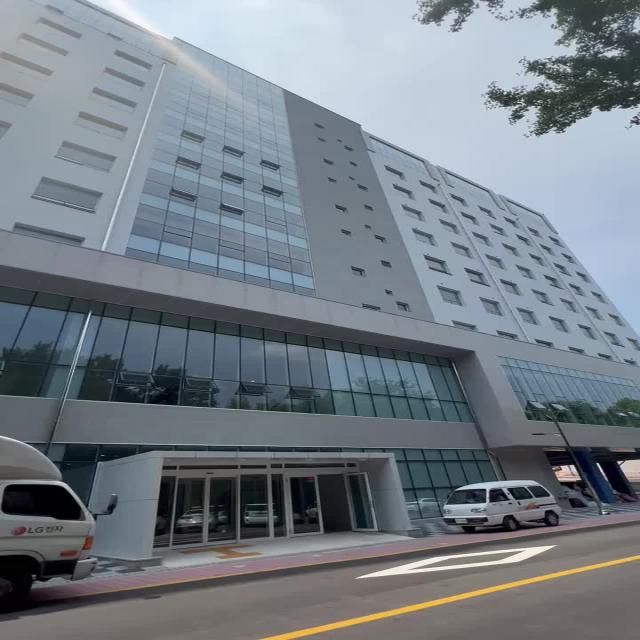building: (0, 29, 620, 447)
